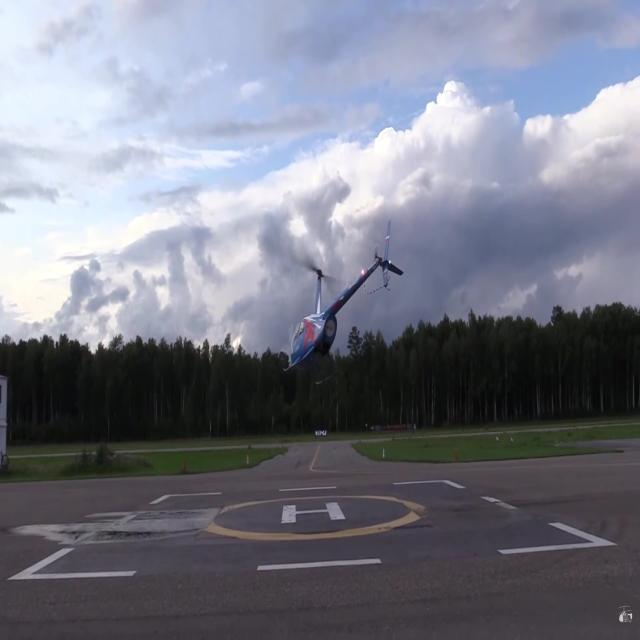CIV_HELO: (282, 215, 404, 388)
